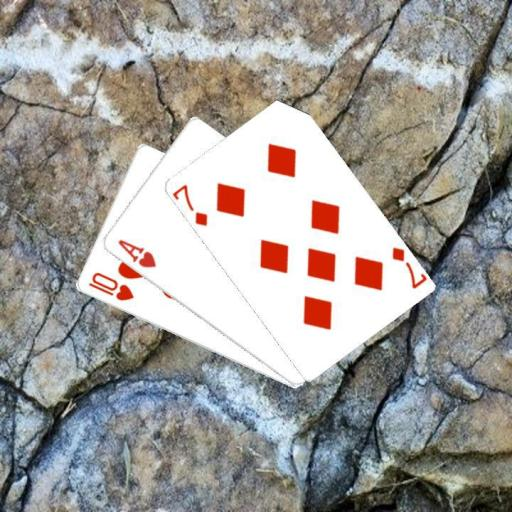10H: (85, 269, 135, 303)
7D: (170, 181, 209, 228), (388, 244, 426, 291)
AH: (114, 236, 158, 270)
